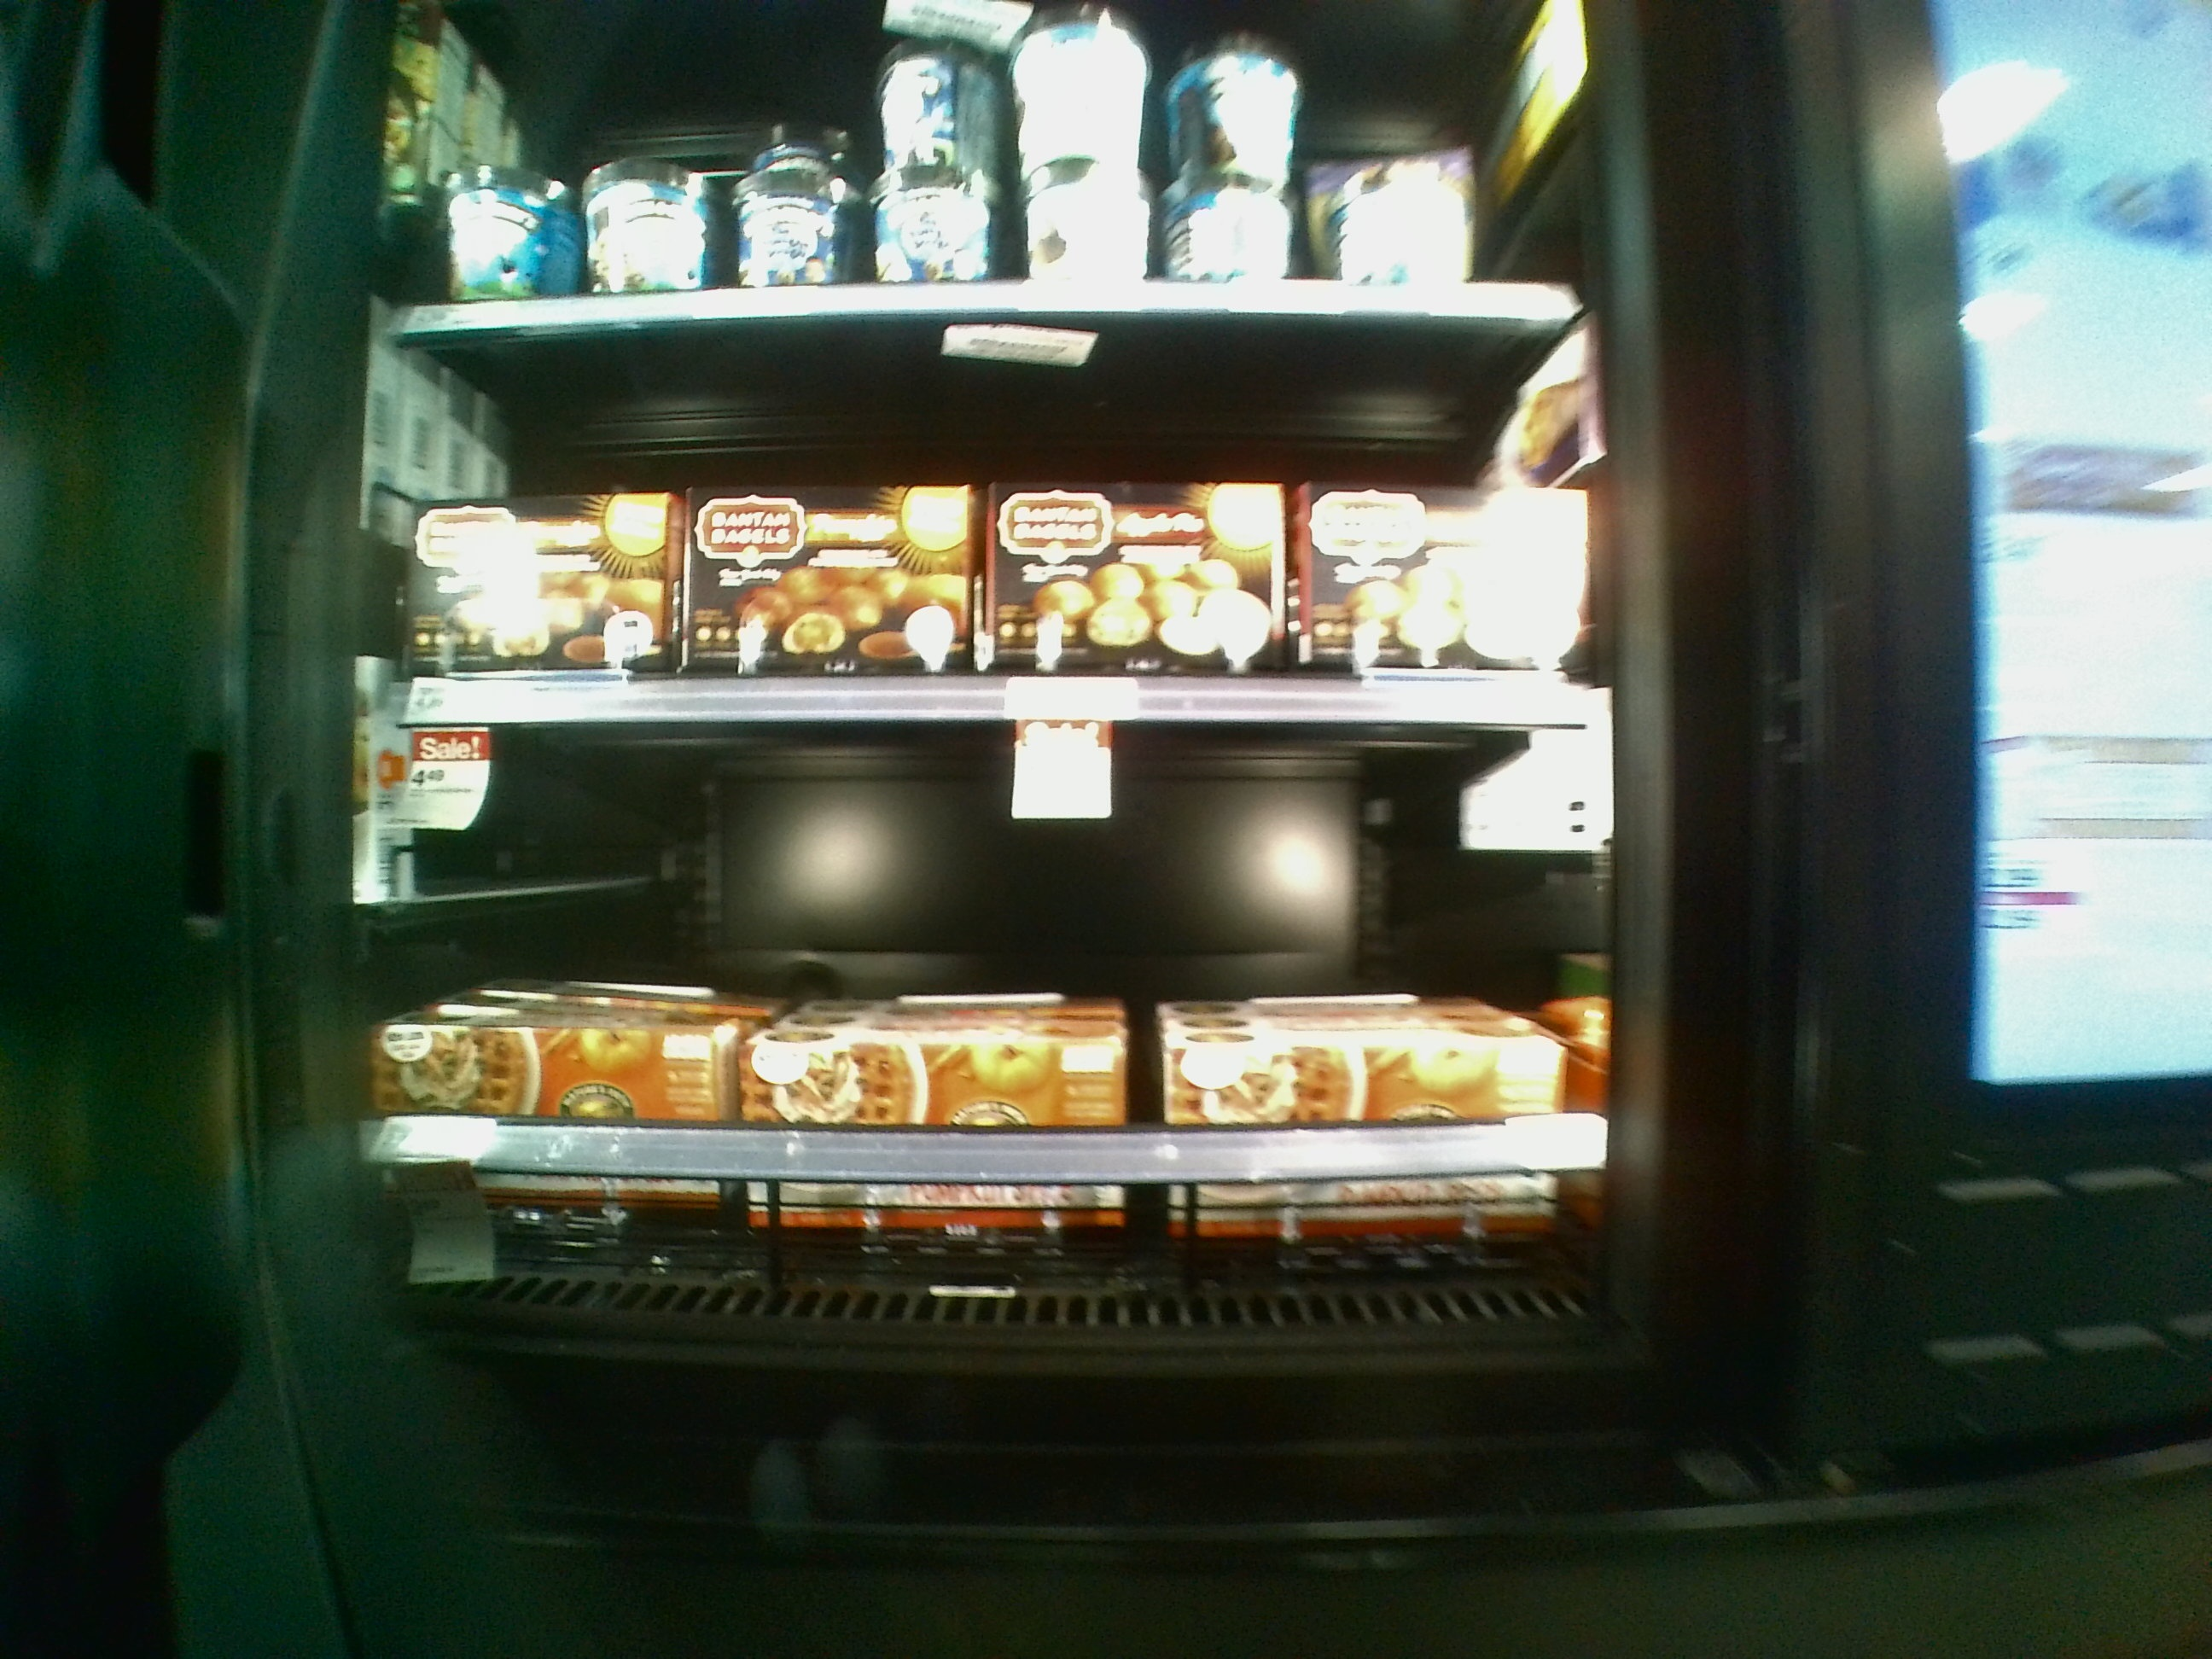shelf: (364, 694, 1604, 1331), (380, 305, 1594, 737)
